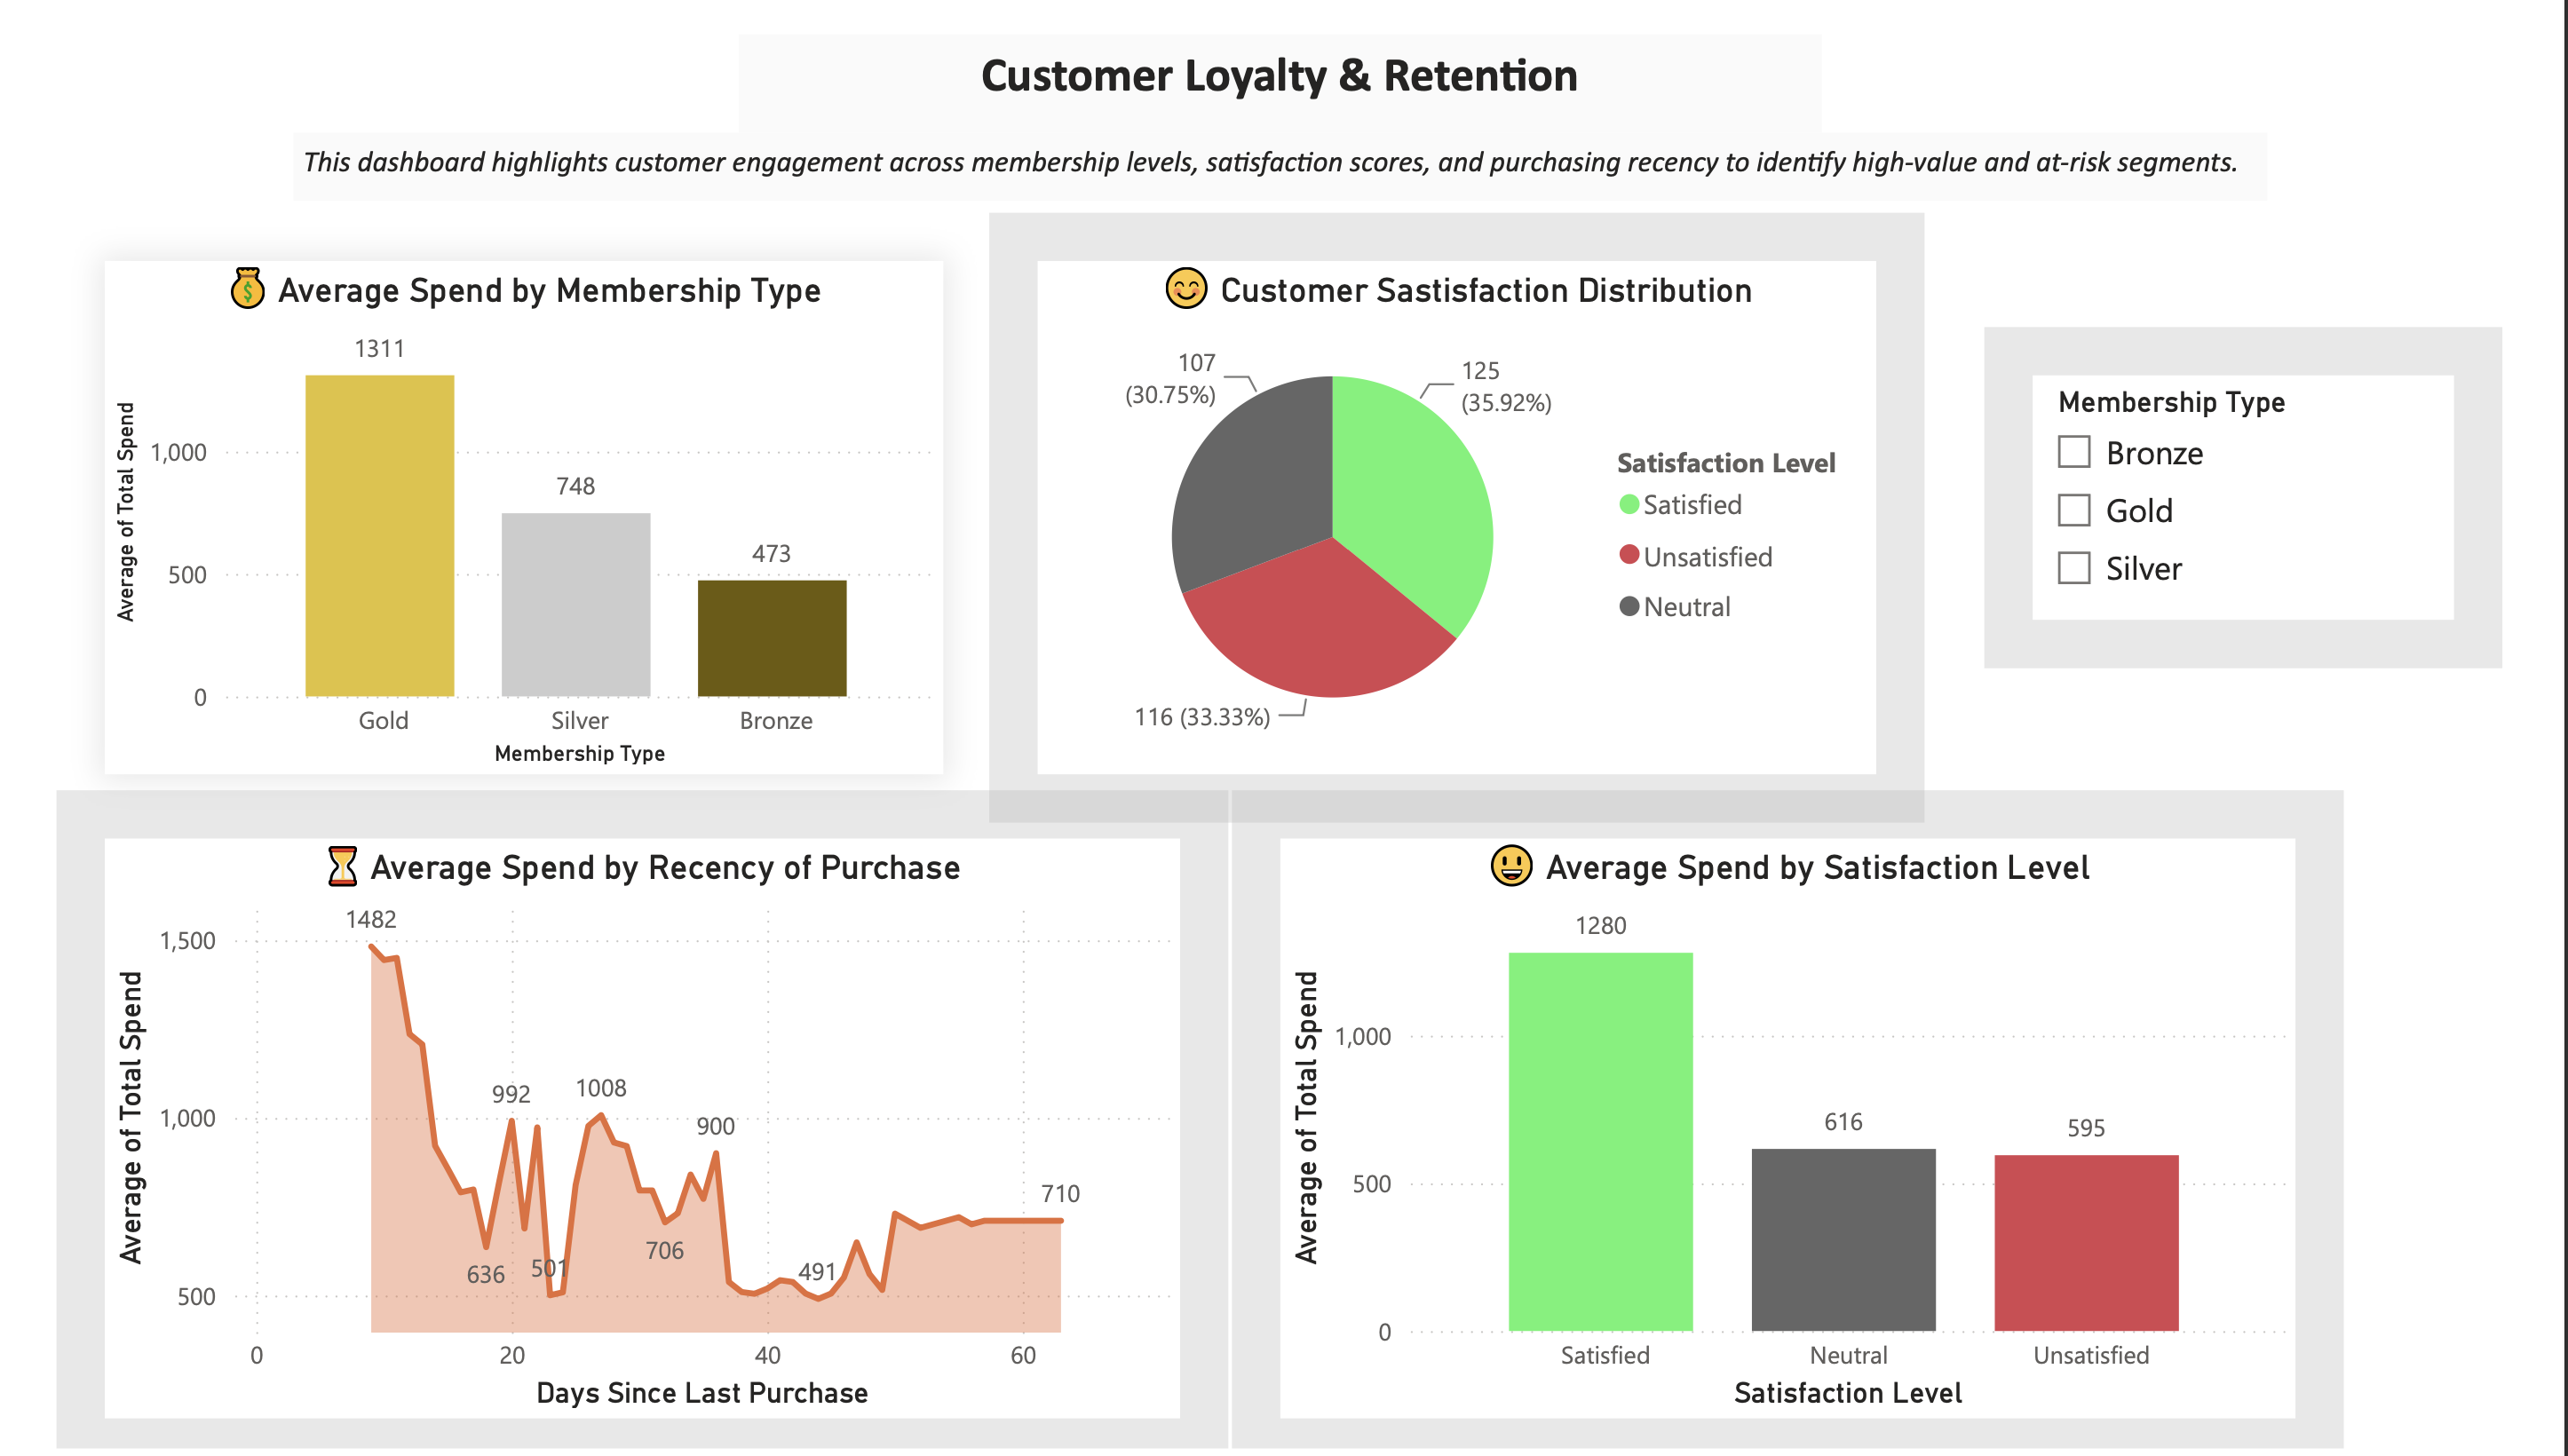

The dashboard page shown, as its layout file describes it:
{"tool":"powerbi","page":{"name":"Page 4","canvas":[1280,720],"ordinal":3},"visuals":[{"type":"pieChart","title":"😊 Customer Sastisfaction Distribution","fields":{"Category":["E-commerce Customer Behavior - Sheet1.Satisfaction Level"],"Y":["CountNonNull(E-commerce Customer Behavior - Sheet1.Customer ID)"]},"box":[519.3,128.1,418.1,256.2],"z":0},{"type":"clusteredColumnChart","title":"😃 Average Spend by Satisfaction Level","fields":{"Category":["E-commerce Customer Behavior - Sheet1.Satisfaction Level"],"Y":["Avg(E-commerce Customer Behavior - Sheet1.Total Spend)"]},"box":[640.5,416.1,506.4,289],"z":1500},{"type":"clusteredColumnChart","title":"💰 Average Spend by Membership Type","fields":{"Category":["E-commerce Customer Behavior - Sheet1.Membership Type"],"Y":["Avg(E-commerce Customer Behavior - Sheet1.Total Spend)"]},"box":[53.6,128.1,418.1,256.2],"z":3000},{"type":"lineChart","title":"⏳ Average Spend by Recency of Purchase","fields":{"Category":["E-commerce Customer Behavior - Sheet1.Days Since Last Purchase"],"Y":["Avg(E-commerce Customer Behavior - Sheet1.Total Spend)"]},"box":[53.6,416.1,536.2,289],"z":4000},{"type":"textbox","box":[370.4,14.9,540.2,48.7],"z":5250},{"type":"textbox","box":[148,63.6,984.1,33.8],"z":5500},{"type":"slicer","fields":{"Values":["E-commerce Customer Behavior - Sheet1.Membership Type"]},"box":[1014.6,185.4,210,121.5],"z":6000}]}

Visuals, with their boxes in screenshot pixels (x1, y1, x2, y2), scaled from the page's 1280x720 canvas onto the 2568x1456 screenshot:
"😊 Customer Sastisfaction Distribution" pieChart: region(1042, 259, 1881, 777)
"😃 Average Spend by Satisfaction Level" clusteredColumnChart: region(1285, 842, 2301, 1426)
"💰 Average Spend by Membership Type" clusteredColumnChart: region(107, 259, 947, 777)
"⏳ Average Spend by Recency of Purchase" lineChart: region(107, 842, 1184, 1426)
textbox: region(743, 30, 1827, 129)
textbox: region(297, 129, 2271, 197)
slicer - E-commerce Customer Behavior - Sheet1.Membership Type: region(2035, 375, 2457, 621)
